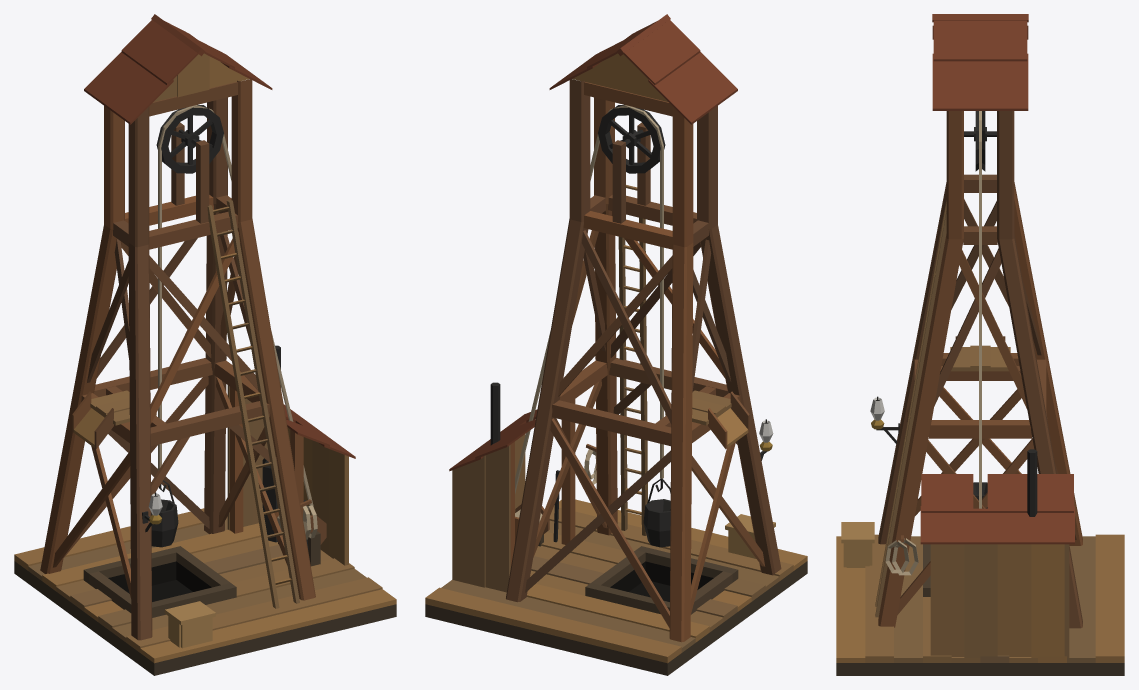
File: mine-headframe-735cf4.glb
3 renders of one model, left to right at view 1: azimuth 30°, elevation 25°; view 2: azimuth 150°, elevation 25°; view 3: azimuth 270°, elevation 25°, orthographic. The views are drawn at different scales.
Visible parts, largest first — view 1: headframe, sheave-mesh, stores-mesh, bucket-mesh; view 2: headframe, sheave-mesh, bucket-mesh, stores-mesh; view 3: headframe, stores-mesh, sheave-mesh.
Part boxes in pixels (left/top/right/bottom): headframe: left=14, top=14, right=396, bottom=675; sheave-mesh: left=156, top=104, right=223, bottom=173; stores-mesh: left=164, top=505, right=317, bottom=648; bucket-mesh: left=151, top=480, right=178, bottom=547; headframe: left=425, top=14, right=807, bottom=675; sheave-mesh: left=598, top=104, right=665, bottom=173; bucket-mesh: left=643, top=478, right=670, bottom=547; stores-mesh: left=584, top=449, right=775, bottom=558; headframe: left=836, top=14, right=1124, bottom=675; stores-mesh: left=841, top=522, right=918, bottom=575; sheave-mesh: left=964, top=111, right=996, bottom=171.
Size of the model in its own units: 4 by 9 by 4.
